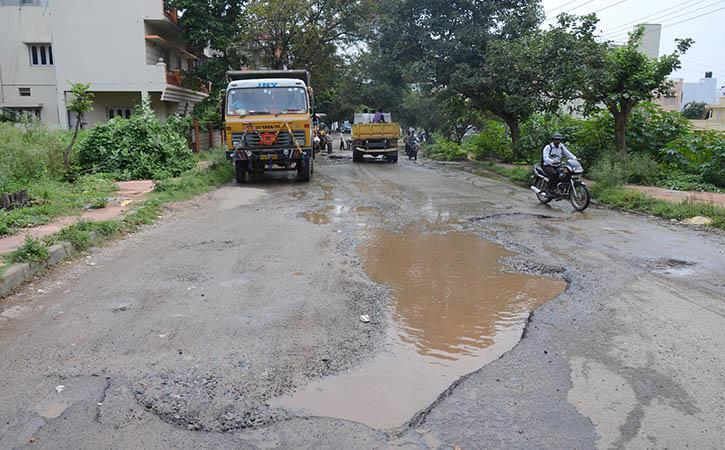pothole: (313, 219, 578, 440), (464, 184, 538, 226), (644, 248, 704, 285)
